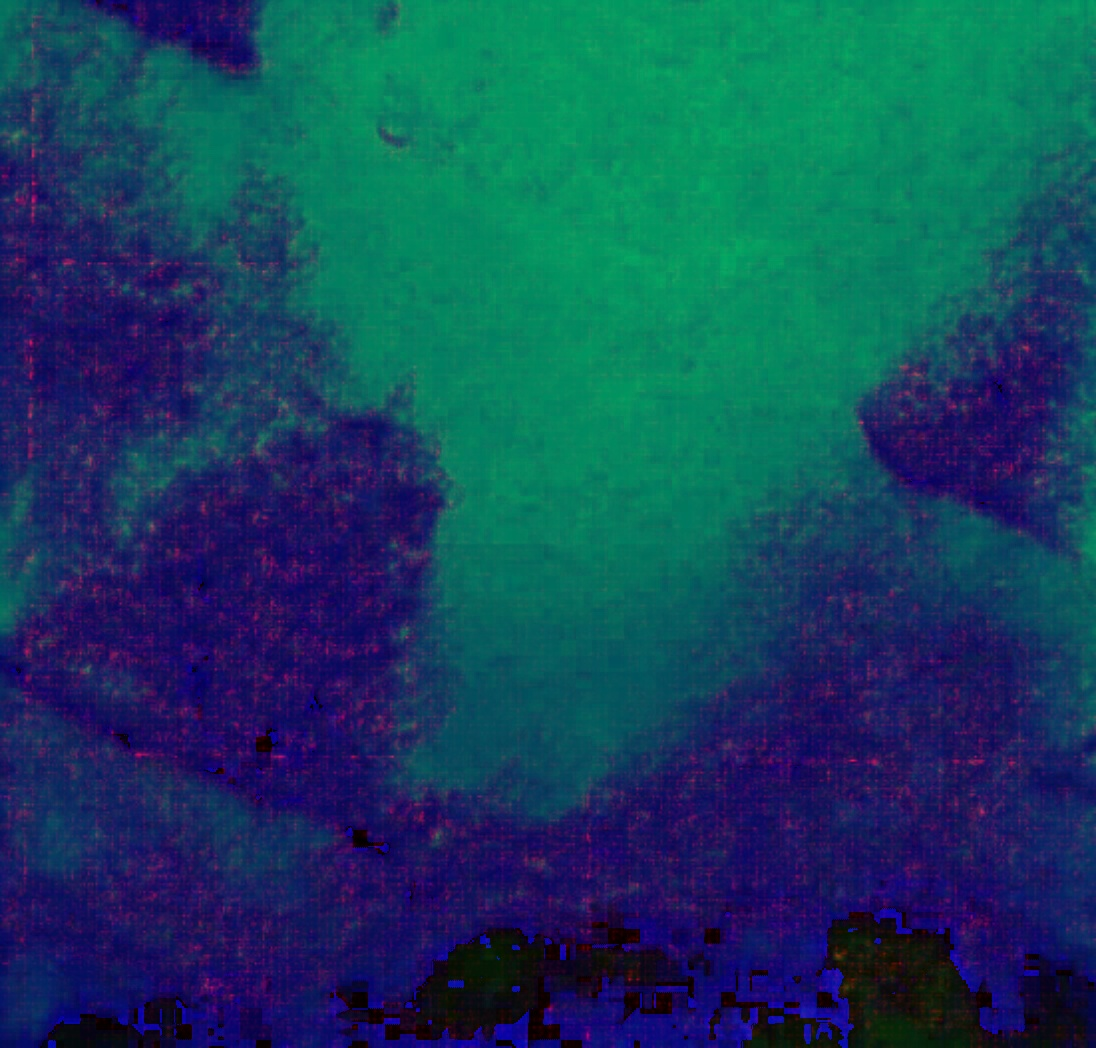rip_current: (306, 207, 851, 884)
